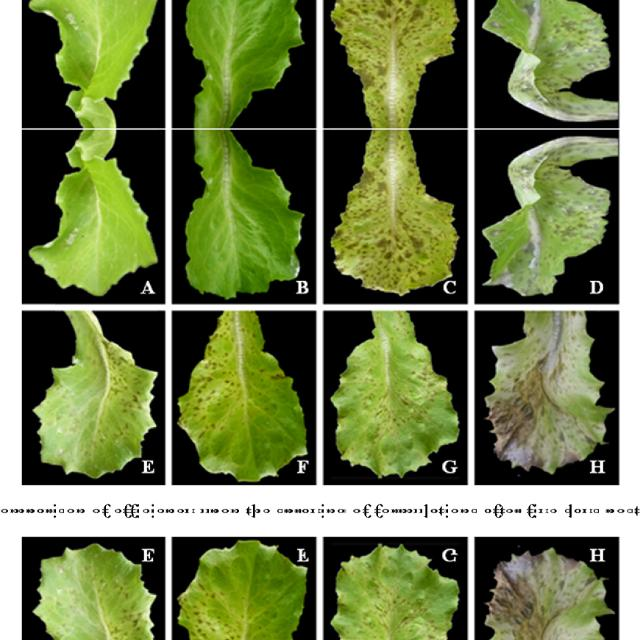Lettuce - Anthracnose: (30, 130, 160, 296), (184, 128, 308, 302), (484, 131, 612, 297), (31, 310, 158, 476), (334, 314, 461, 480), (182, 309, 304, 481), (331, 128, 455, 296), (488, 310, 608, 472), (30, 0, 159, 126), (484, 0, 611, 125), (184, 0, 308, 128), (331, 0, 455, 128), (333, 541, 460, 640), (181, 540, 304, 640), (30, 545, 157, 640), (487, 549, 608, 640)
